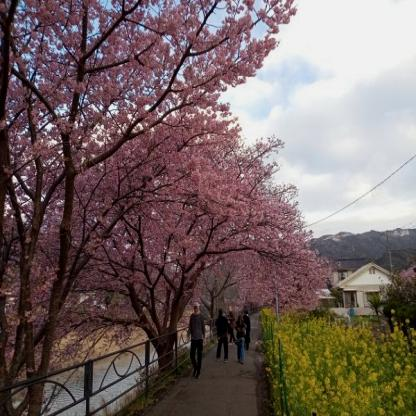KawazuSakura: (0, 0, 338, 322)
